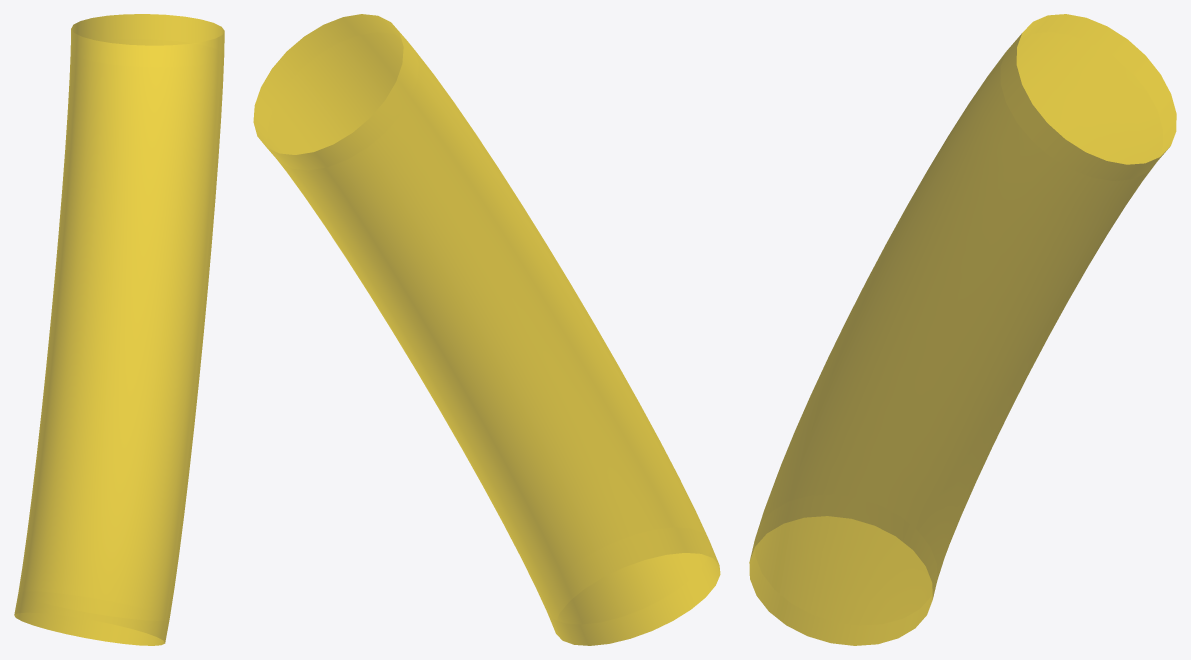
File: Event_40932208_track_27.fbx
3 renders of one model, left to right at view 1: azimuth 30°, elevation 25°; view 2: azimuth 150°, elevation 25°; view 3: azimuth 270°, elevation 25°, orthographic. The views are drawn at different scales.
Visible parts, largest first — view 1: Model; view 2: Model; view 3: Model.
Part boxes in pixels (<box>): Model: <box>14,14,224,645</box>; Model: <box>253,14,720,645</box>; Model: <box>749,14,1176,645</box>.
Bounding box in the file's own units: 0.087 × 0.1577 × 0.0912.
